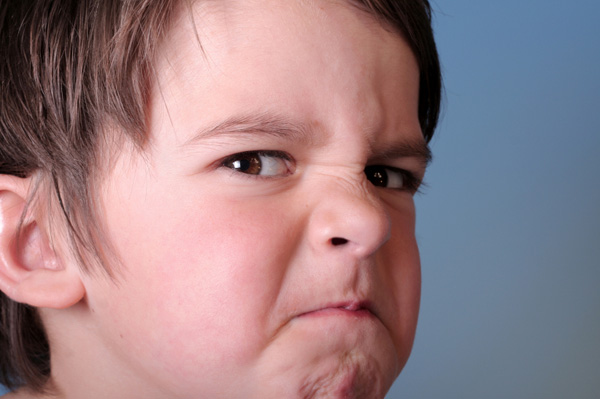angry: (173, 79, 444, 399)
